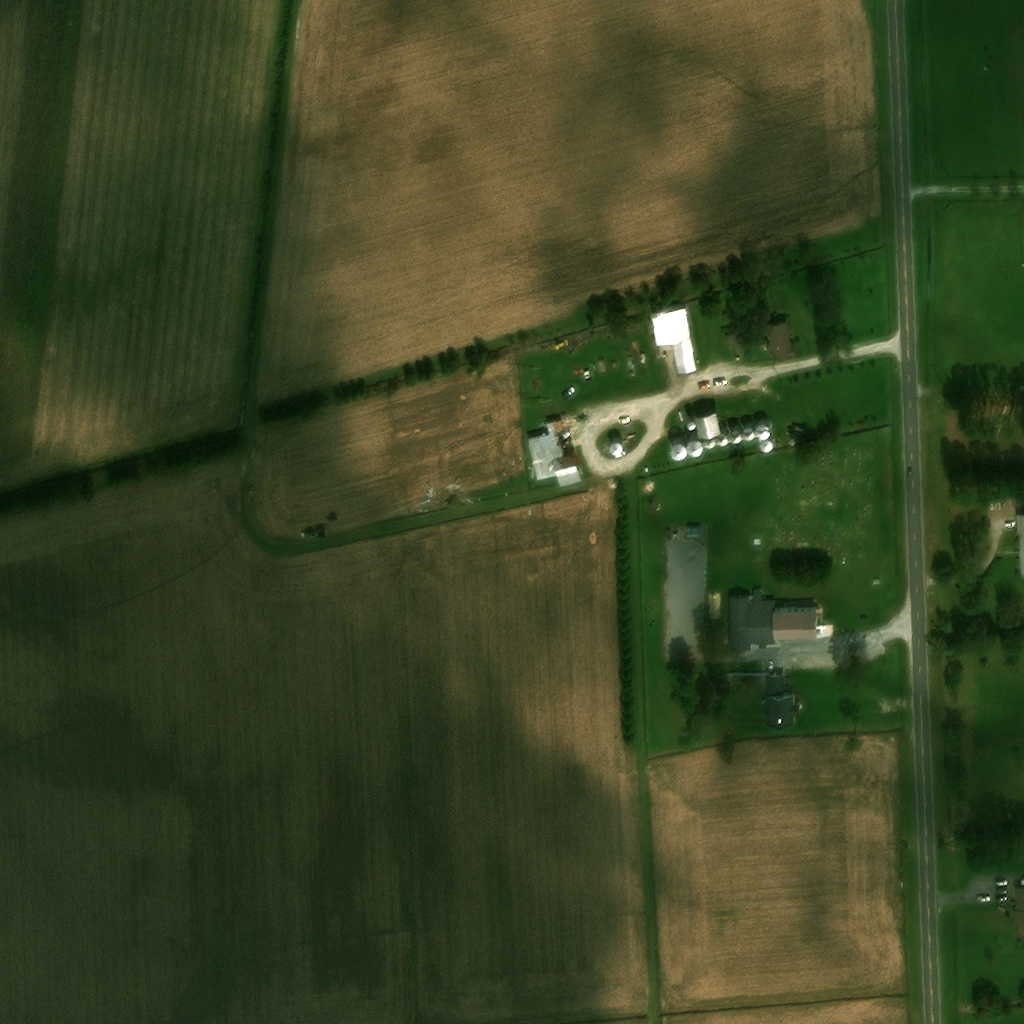no_damage: (729, 590, 818, 650), (665, 422, 767, 459), (527, 419, 579, 486), (763, 676, 799, 726), (650, 309, 691, 346), (765, 322, 794, 363), (673, 341, 697, 377), (691, 410, 717, 436), (724, 333, 751, 356), (606, 440, 621, 456), (757, 438, 770, 450), (681, 418, 692, 427)
unclassified: (1013, 888, 1022, 939)
